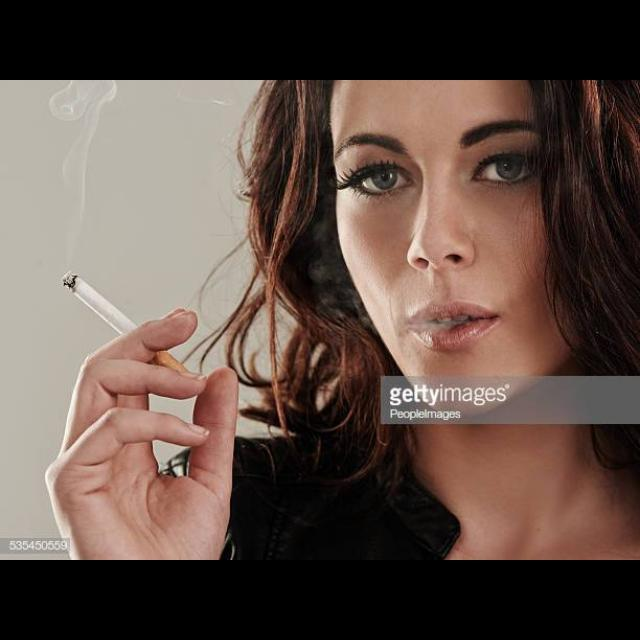rokok: (60, 266, 200, 386)
